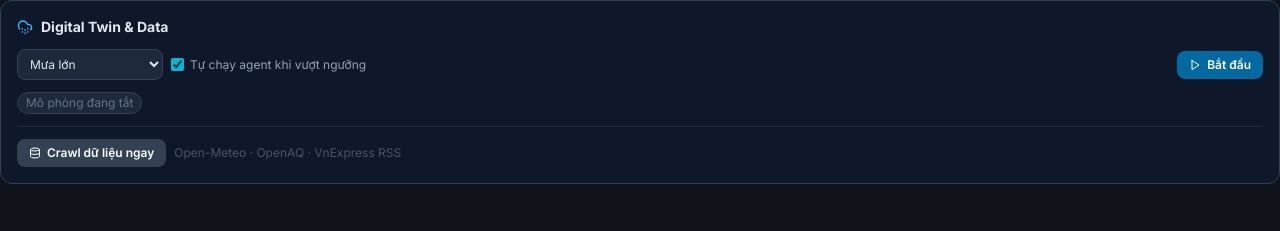
Test: SimulationPanel › shows the real per-source counts after a crawl, including a zero-count source
The image size is (1280, 231).
Click the button with test id "sim-crawl-btn" at (92,153), box [17, 139, 166, 167]
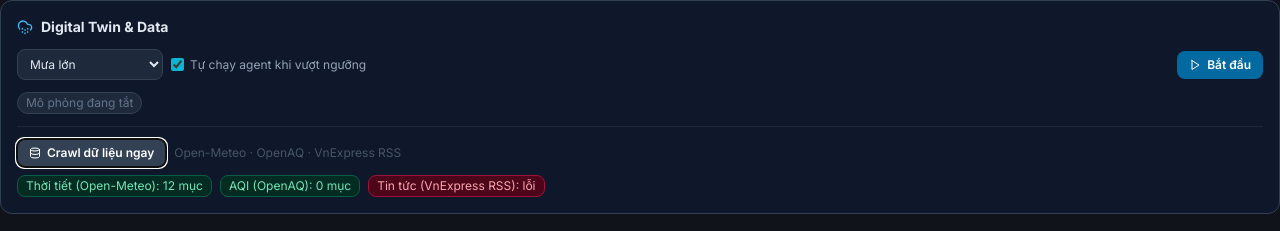
Expected: the list with test id "sim-crawl-results" shows "12 mục", [163, 178, 203, 193]
Expected: the list with test id "sim-crawl-results" shows "0 mục", [316, 178, 351, 193]
Expected: the list with test id "sim-crawl-results" shows "lỗi", [522, 178, 536, 193]
